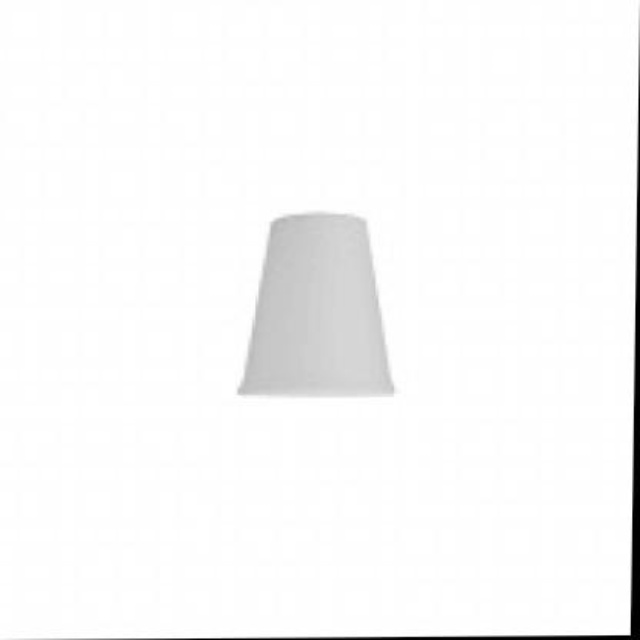trash: (238, 214, 392, 395)
